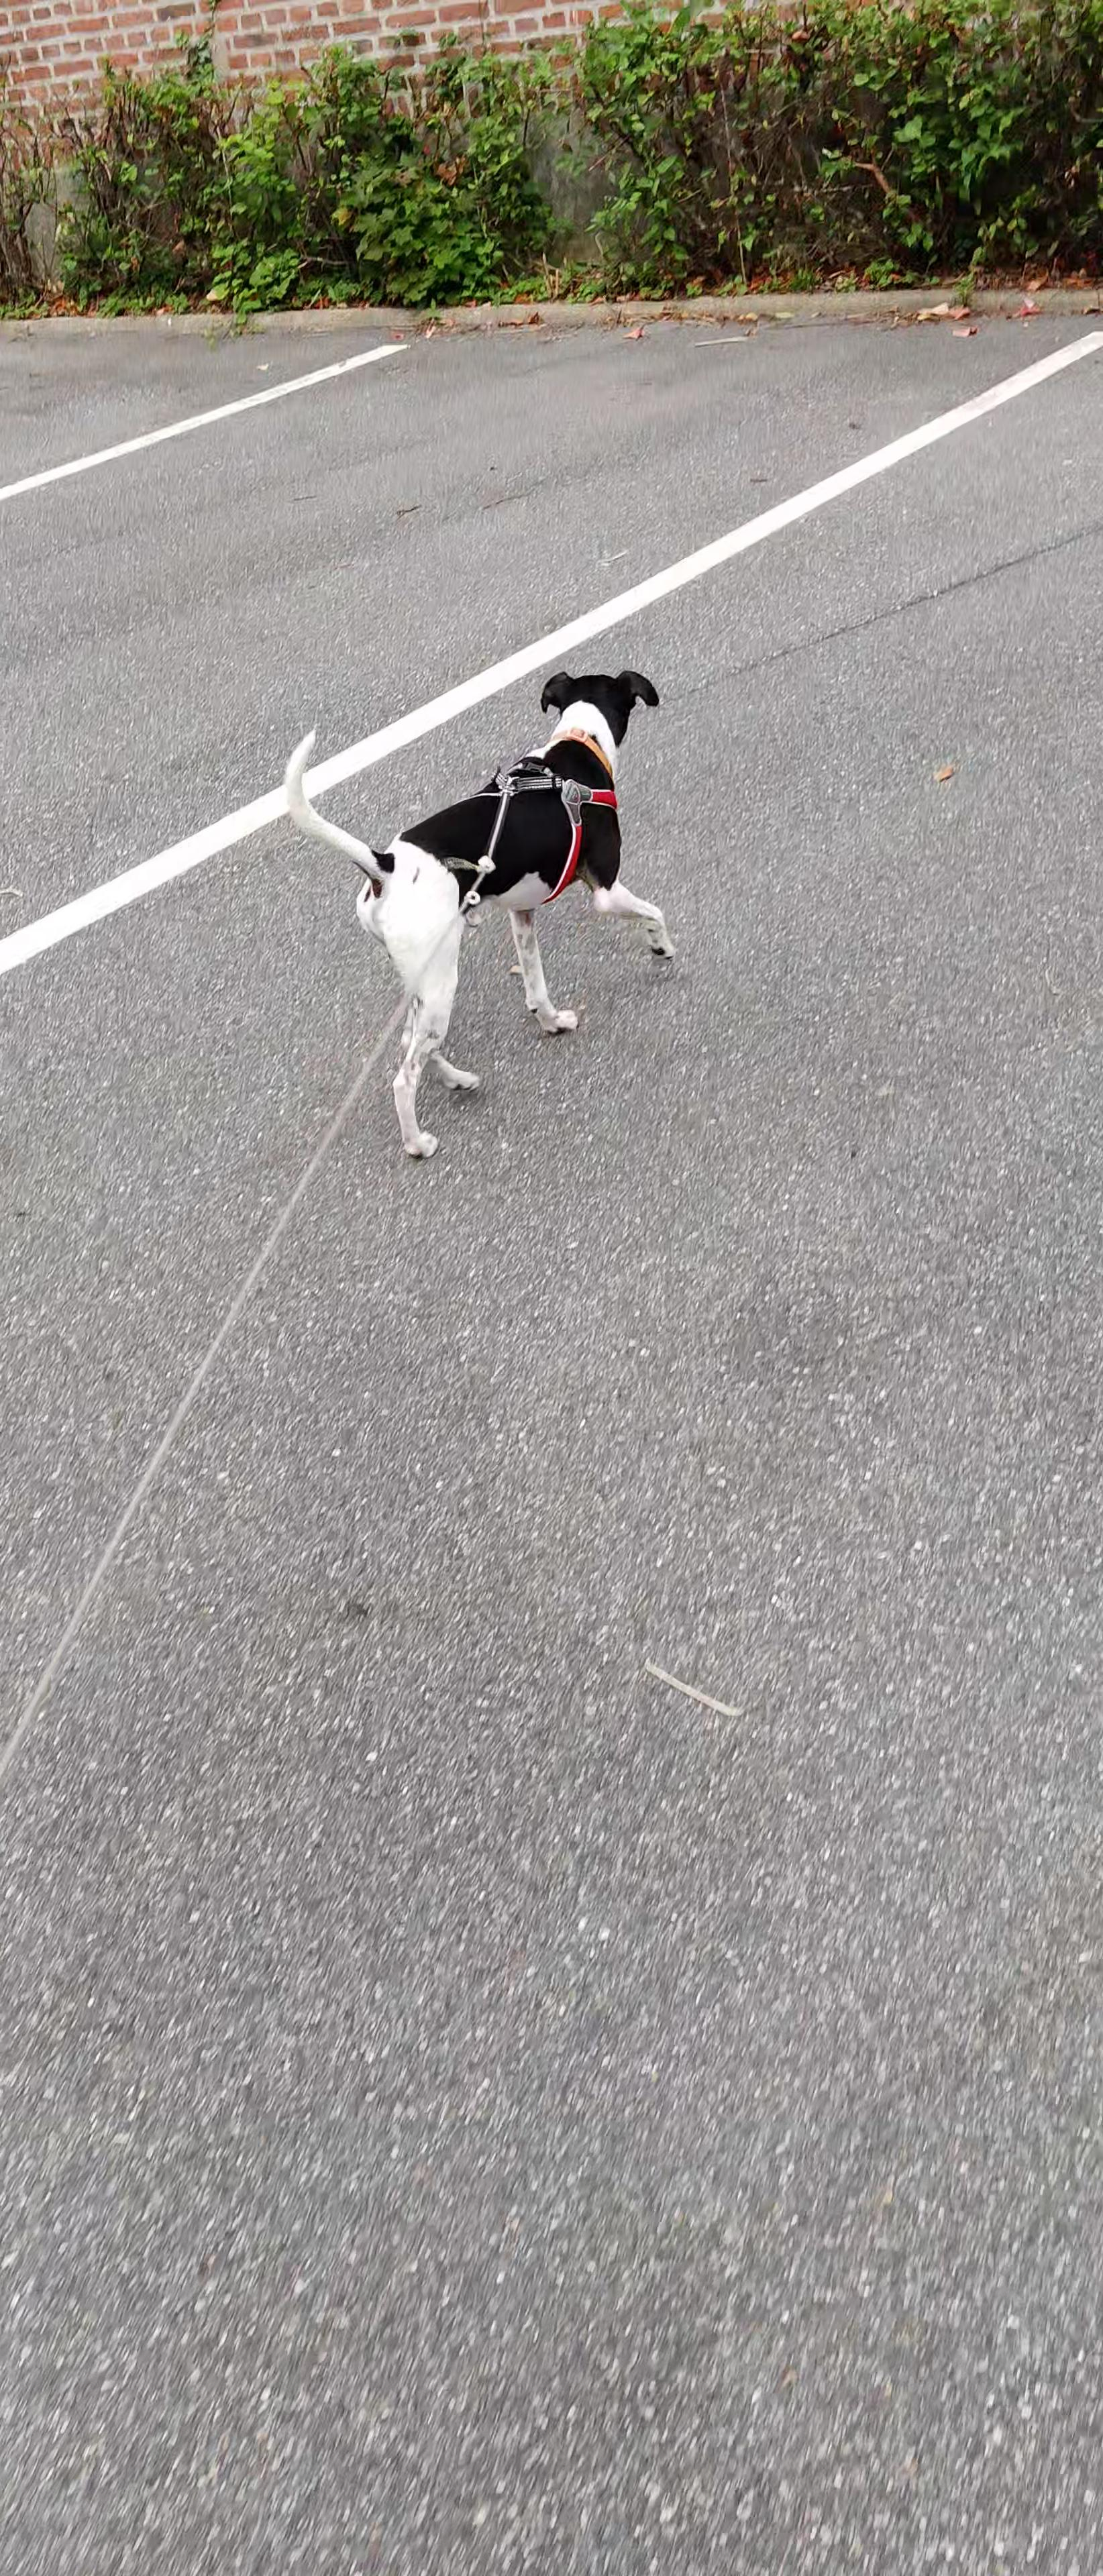Dog: (275, 662, 676, 1166)
